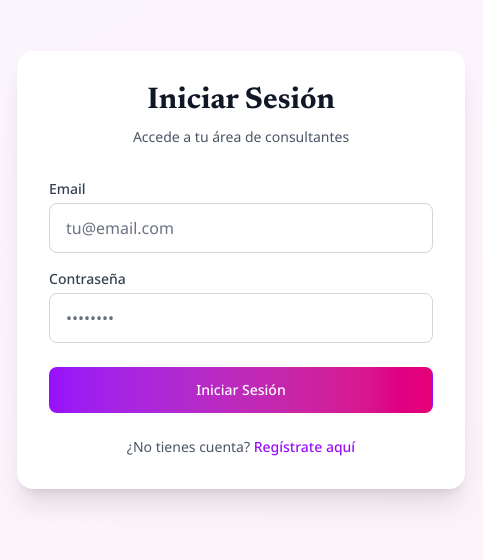
Test case: LoginPage › displays error message on login failure
This screenshot has width=483, height=560.
Type "error@example.com" into the field with placeholder "tu@email.com" at (241,228), box [49,203,433,253]
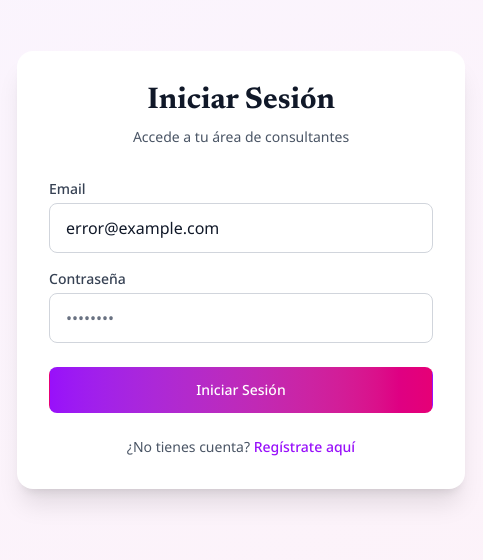
Type "wrong" into the password field with placeholder "••••••••" at (241,318), box [49,293,433,343]
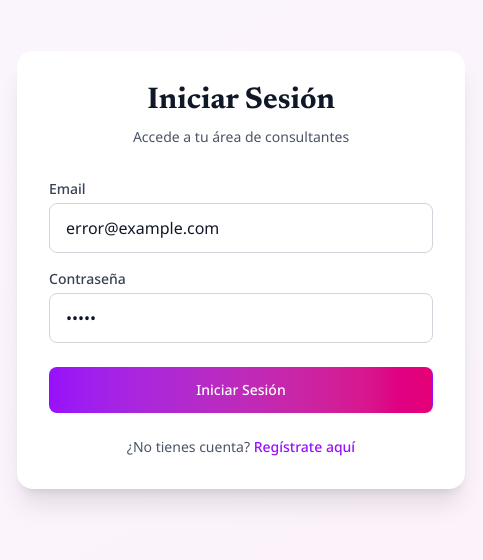
Click the button "Iniciar Sesión" at (241,390), box [49,367,433,413]
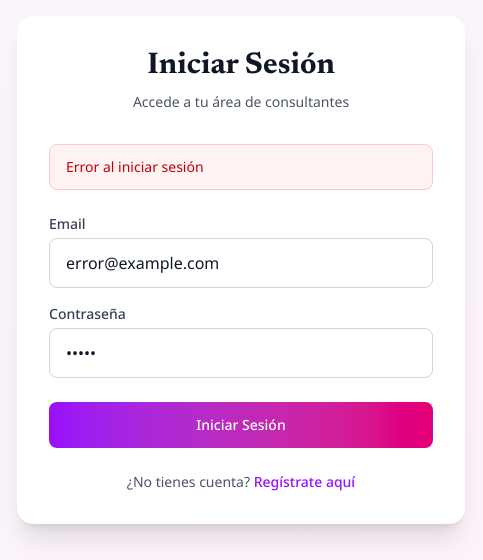
Expected: the text "Error al iniciar sesión" is shown, [49,144,433,190]
